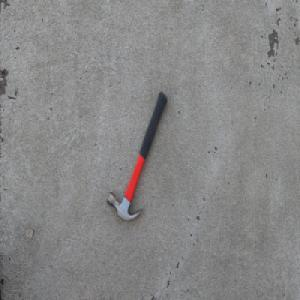Hammer: (106, 90, 167, 222)
